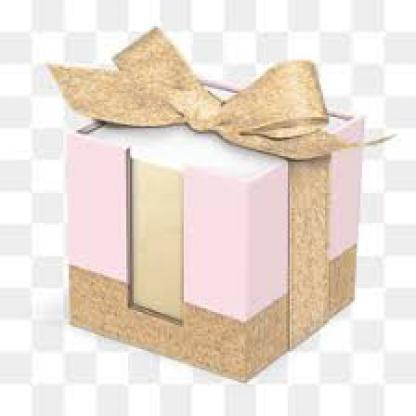paquete: (44, 20, 380, 394)
